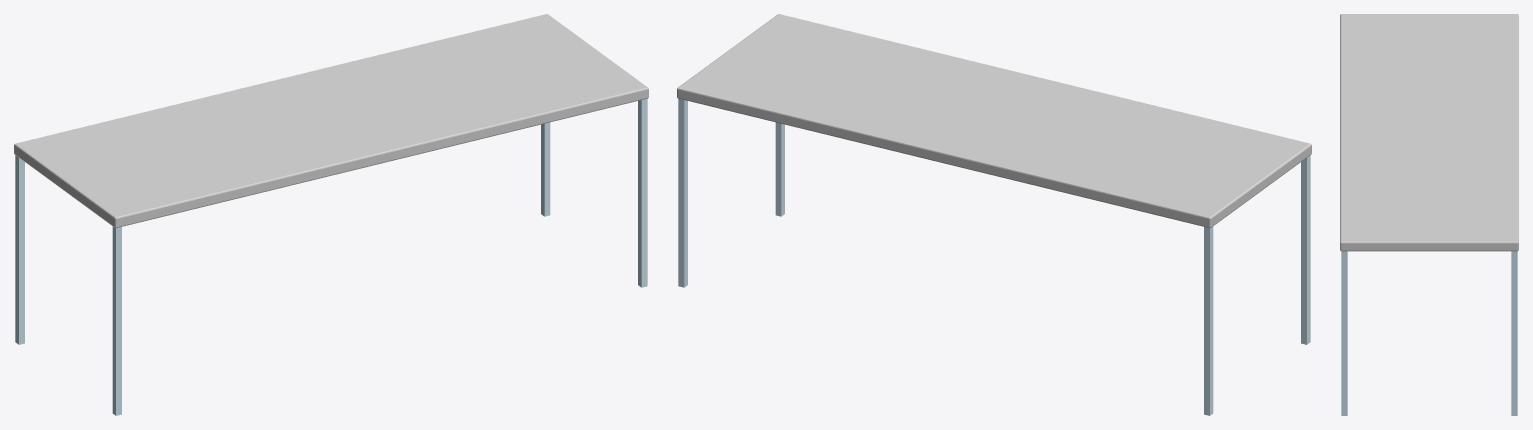
File: EB_Table.fbx
The picture shows the model from 3 angles, left to right: view 1: azimuth 30°, elevation 25°; view 2: azimuth 150°, elevation 25°; view 3: azimuth 270°, elevation 25°; orthographic projection. The views are drawn at different scales.
Visible parts, largest first — view 1: Table.001; view 2: Table.001; view 3: Table.001.
Part boxes in pixels (left/top/right/bottom): Table.001: left=14, top=14, right=648, bottom=415; Table.001: left=677, top=14, right=1311, bottom=415; Table.001: left=1340, top=14, right=1518, bottom=415.
Size of the model in its own units: 496 by 176 by 164.
